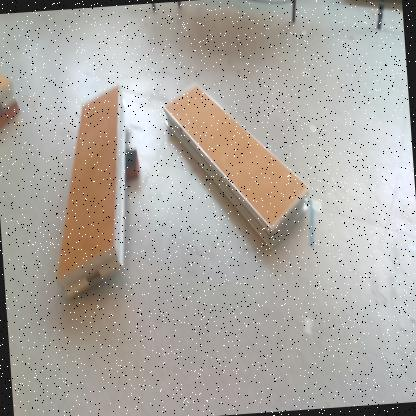Stairs: (164, 81, 312, 253), (57, 86, 128, 303), (1, 78, 18, 113)
